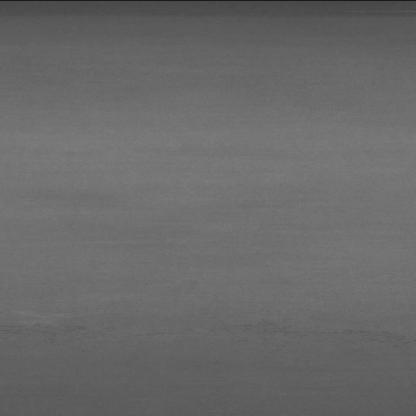silk_spot: (3, 301, 122, 349)
